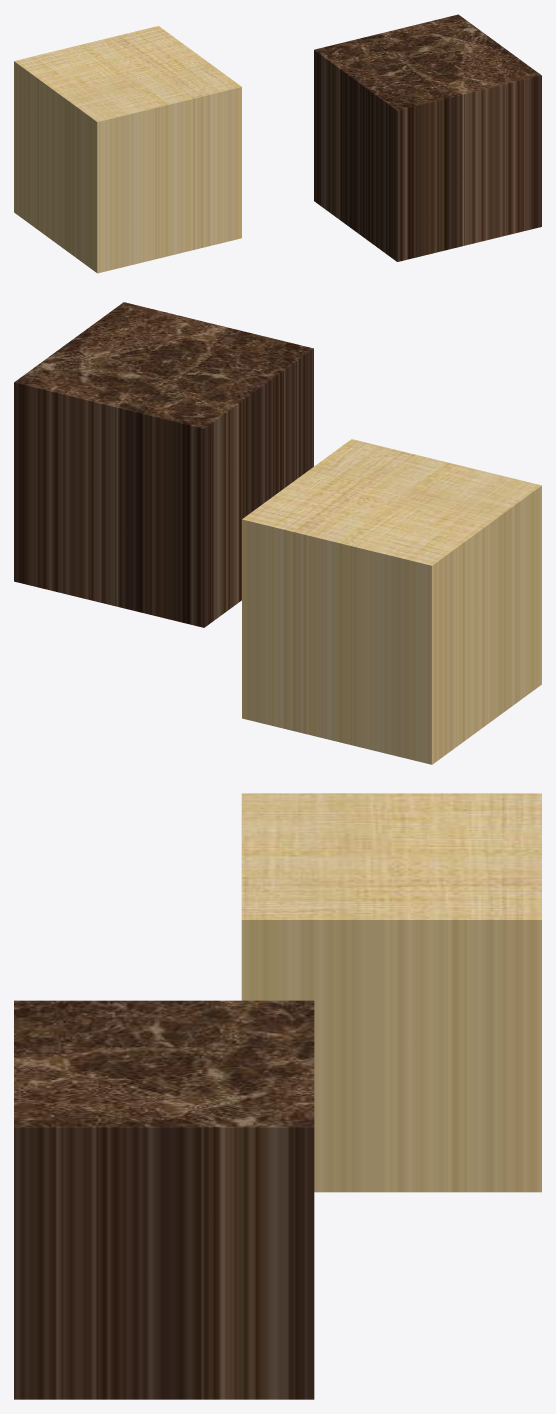
File: cubes.gltf
3 renders of one model, top to bottom at view 1: azimuth 30°, elevation 25°; view 2: azimuth 150°, elevation 25°; view 3: azimuth 270°, elevation 25°, orthographic. The views are drawn at different scales.
Size of the model in its own units: 0.1054 by 0.04 by 0.0703.
2 materials, 2 textured.
